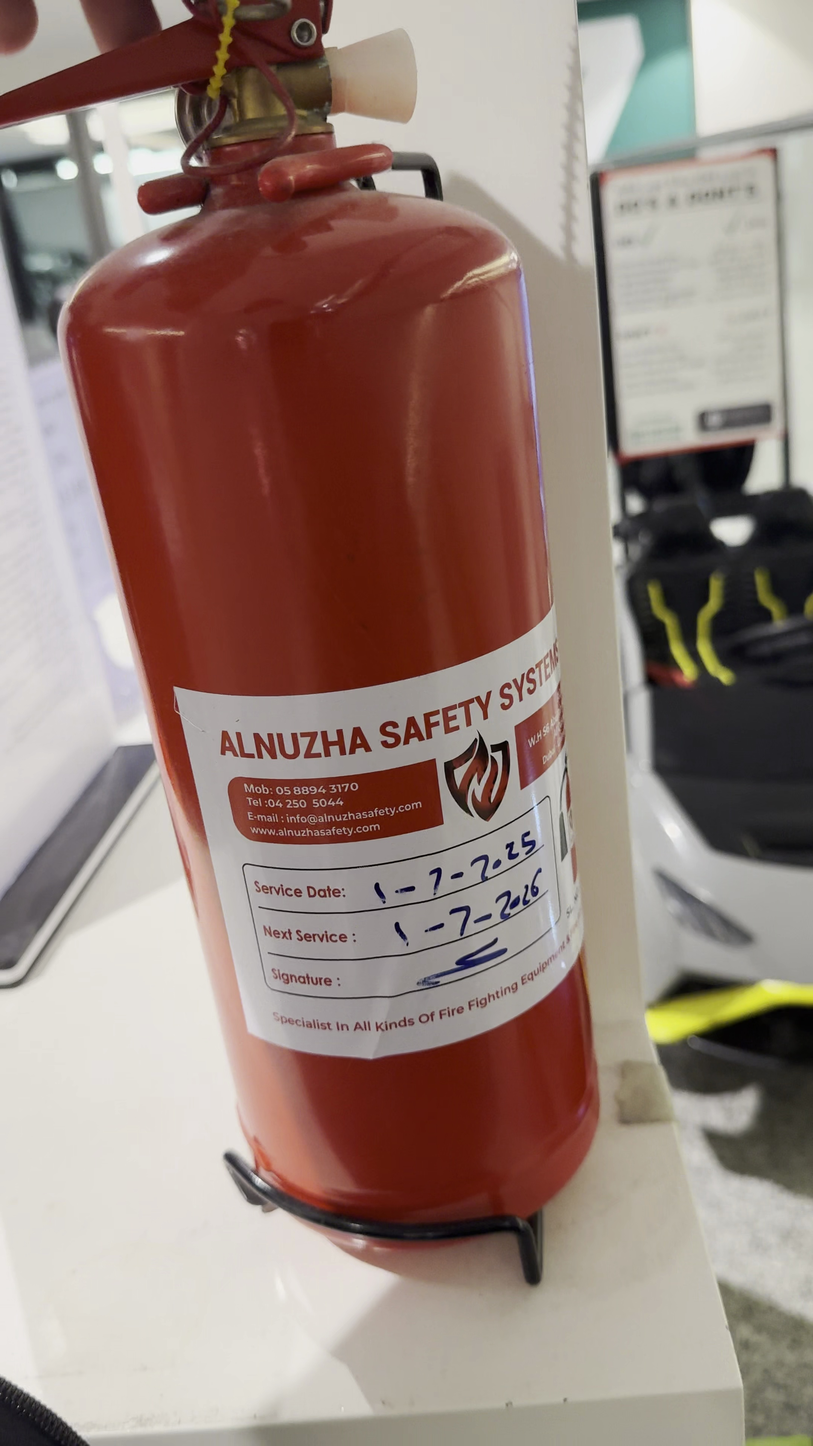fire_extinguisher: (7, 2, 604, 1287)
